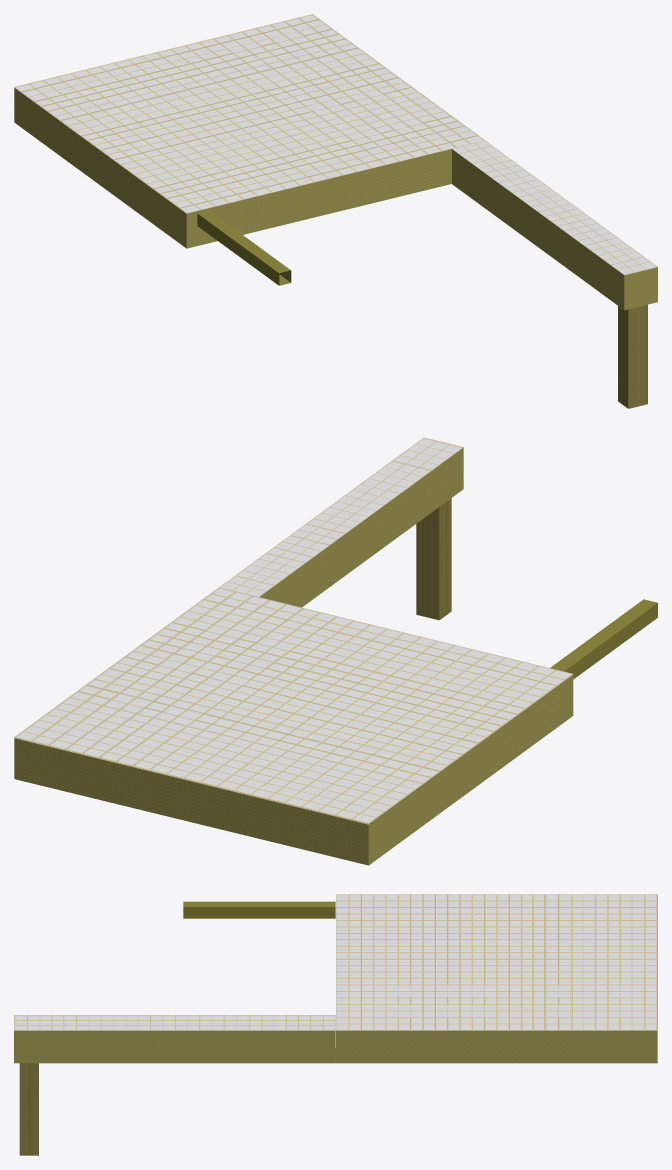
The model's file is backrooms.glb.
3 renders of one model, top to bottom at view 1: azimuth 30°, elevation 25°; view 2: azimuth 150°, elevation 25°; view 3: azimuth 270°, elevation 25°, orthographic. The views are drawn at different scales.
Parts seen in each view (by area): view 1: Object_11, Object_4, Object_7, Object_9, Object_30; view 2: Object_11, Object_4, Object_7, Object_9, Object_30; view 3: Object_11, Object_4, Object_7, Object_30, Object_9.
Part boxes in pixels (bbox=[...]): Object_11: bbox=[14, 14, 656, 274]; Object_4: bbox=[14, 88, 657, 310]; Object_7: bbox=[14, 14, 657, 275]; Object_9: bbox=[452, 184, 647, 408]; Object_30: bbox=[197, 210, 291, 285]; Object_11: bbox=[15, 438, 572, 823]; Object_4: bbox=[14, 447, 573, 865]; Object_7: bbox=[14, 437, 572, 824]; Object_9: bbox=[307, 491, 460, 620]; Object_30: bbox=[550, 599, 657, 679]; Object_11: bbox=[14, 894, 657, 1030]; Object_4: bbox=[14, 1030, 657, 1063]; Object_7: bbox=[14, 894, 657, 1030]; Object_30: bbox=[183, 901, 335, 918]; Object_9: bbox=[19, 1048, 335, 1155].
Bounding box in the file's own units: 44.79 × 19.76 × 89.65.
Materials: 6 (6 with a texture image).
